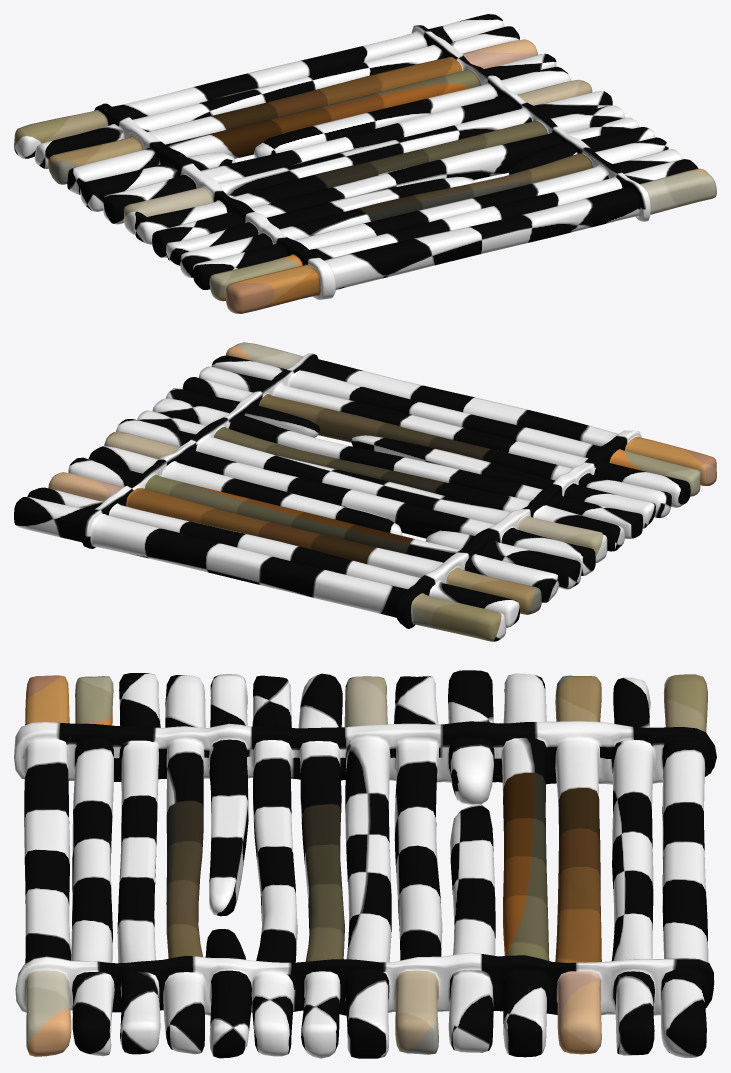
Rendered from RaftBroken_1.fbx.
3 renders of one model, top to bottom at view 1: azimuth 30°, elevation 25°; view 2: azimuth 150°, elevation 25°; view 3: azimuth 270°, elevation 25°, orthographic. The views are drawn at different scales.
Visible parts, largest first — view 1: RaftBroken_1; view 2: RaftBroken_1; view 3: RaftBroken_1.
Part boxes in pixels (x1,y1,x2,y2): RaftBroken_1: (14,14,716,313); RaftBroken_1: (14,342,716,641); RaftBroken_1: (14,670,716,1058).
Bounding box in the file's own units: 1095 × 87.92 × 907.
